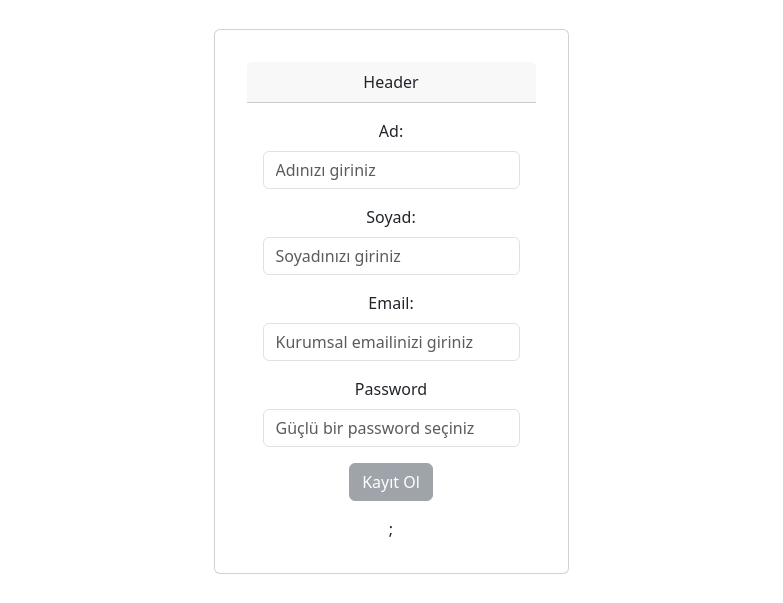
Test: Register Page › Error Messages › Password input throws error for 1234
This screenshot has width=783, height=603.
Step 1. Type "1234" into the password field with test id "password-input" → (392, 428), box [263, 409, 520, 447]
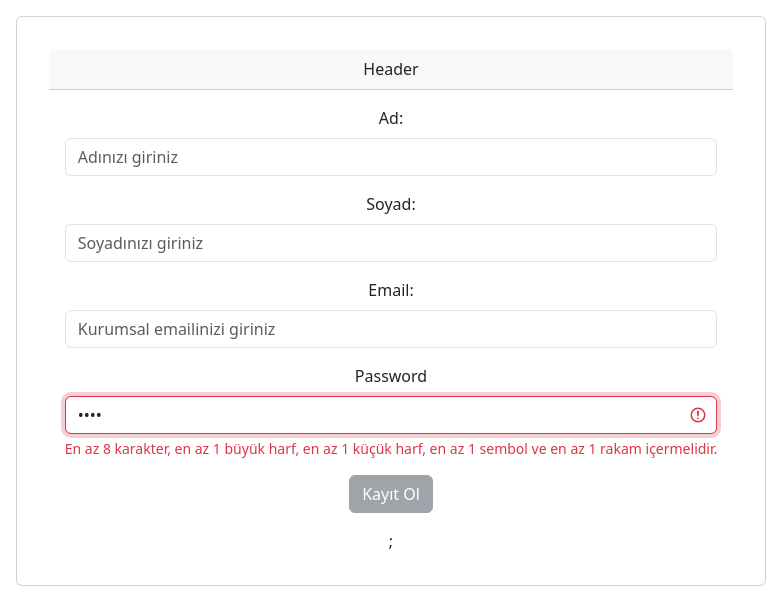
Check: the text "En az 8 karakter, en az 1 büyük harf, en az 1 küçük harf, en az 1 sembol ve en az 1 rakam içermelidir." is shown, box [65, 439, 718, 458]
